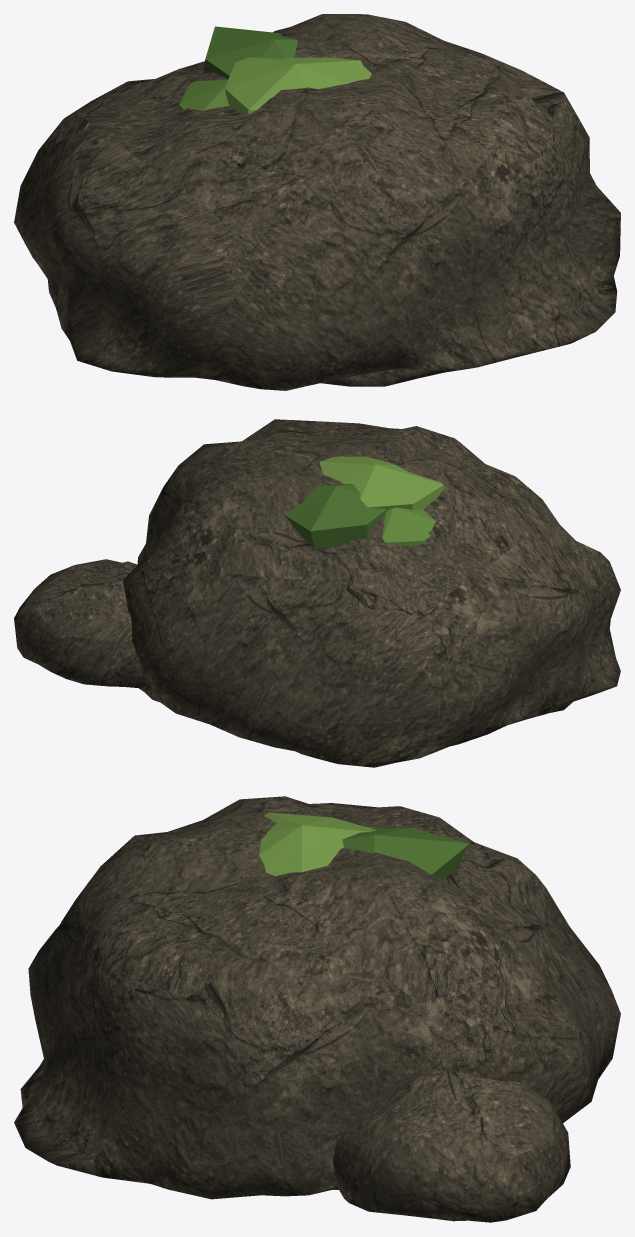
File: rock_moss_01_real.gltf
3 renders of one model, top to bottom at view 1: azimuth 30°, elevation 25°; view 2: azimuth 150°, elevation 25°; view 3: azimuth 270°, elevation 25°, orthographic. The views are drawn at different scales.
Parts seen in each view (by area): view 1: rock_moss_01; view 2: rock_moss_01; view 3: rock_moss_01.
Part boxes in pixels (box(x1,y1,x2,y2)): rock_moss_01: box(14, 14, 620, 390); rock_moss_01: box(14, 419, 620, 767); rock_moss_01: box(14, 796, 620, 1222).
Bounding box in the file's own units: 2.24 × 0.9237 × 1.89.
Materials: 6 (6 with a texture image).
